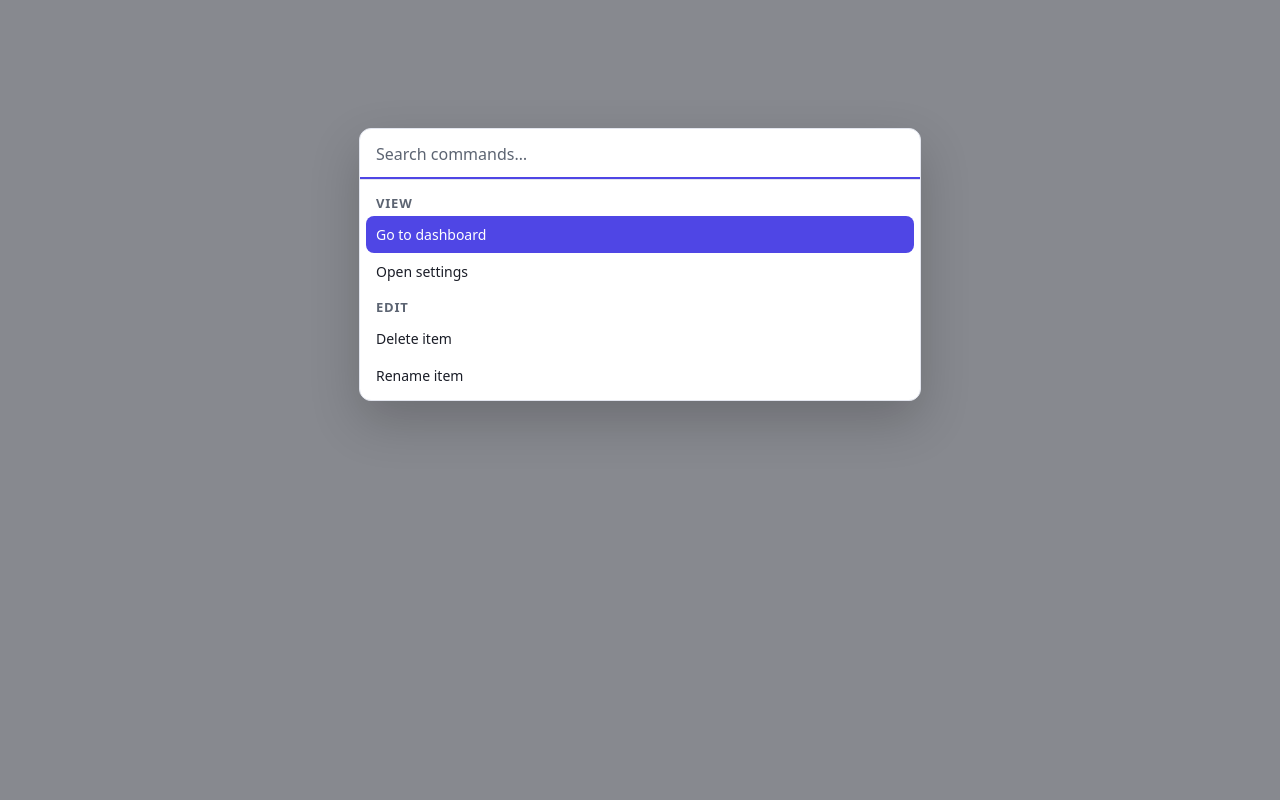
Test case: CommandPalette › filters options by query
Type "delete" into the dropdown at (656, 154), box 360,129 -> 952,180
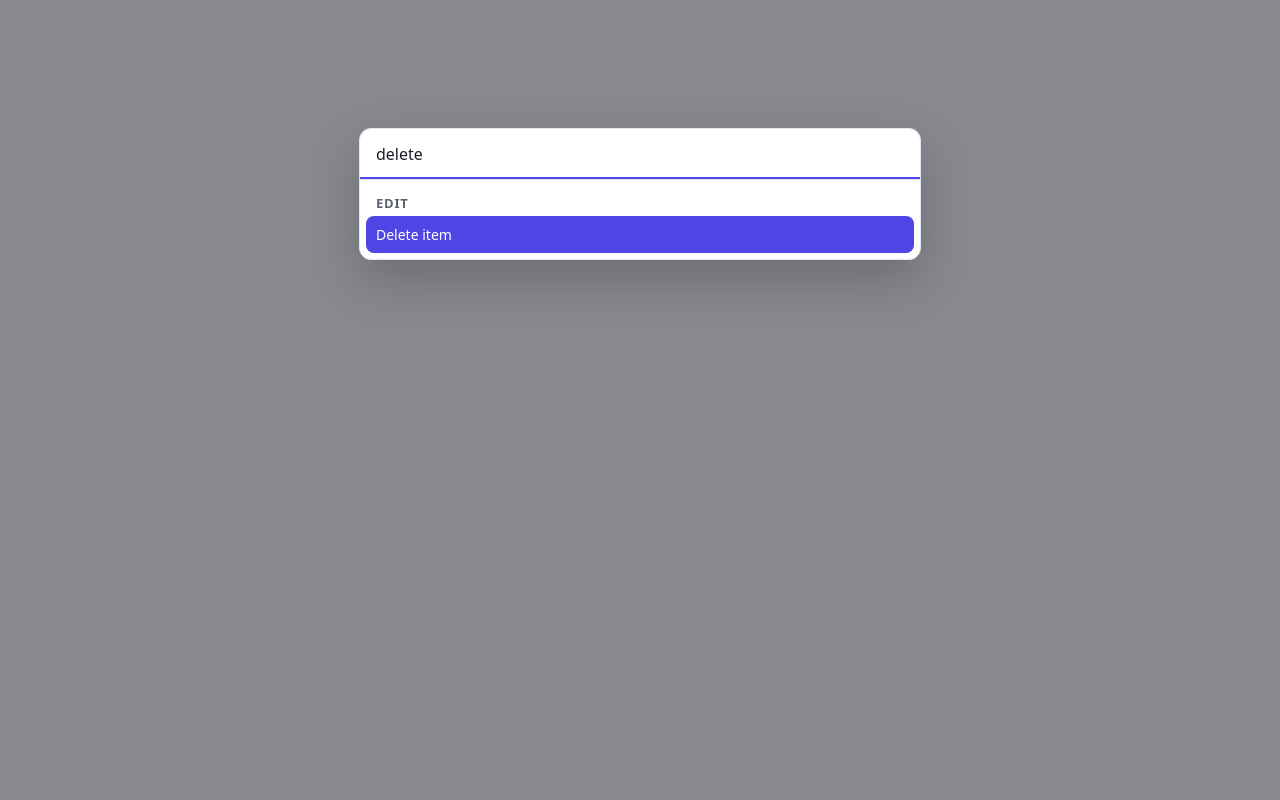
Expected: the option "Delete item" is shown, 366,216 -> 914,253
Now the option "dashboard" is gone
